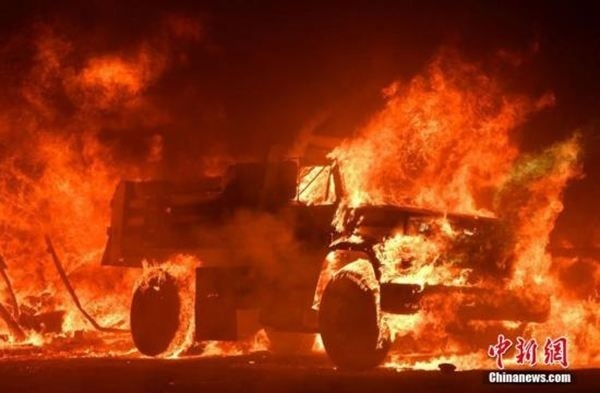fire: (0, 42, 531, 372)
